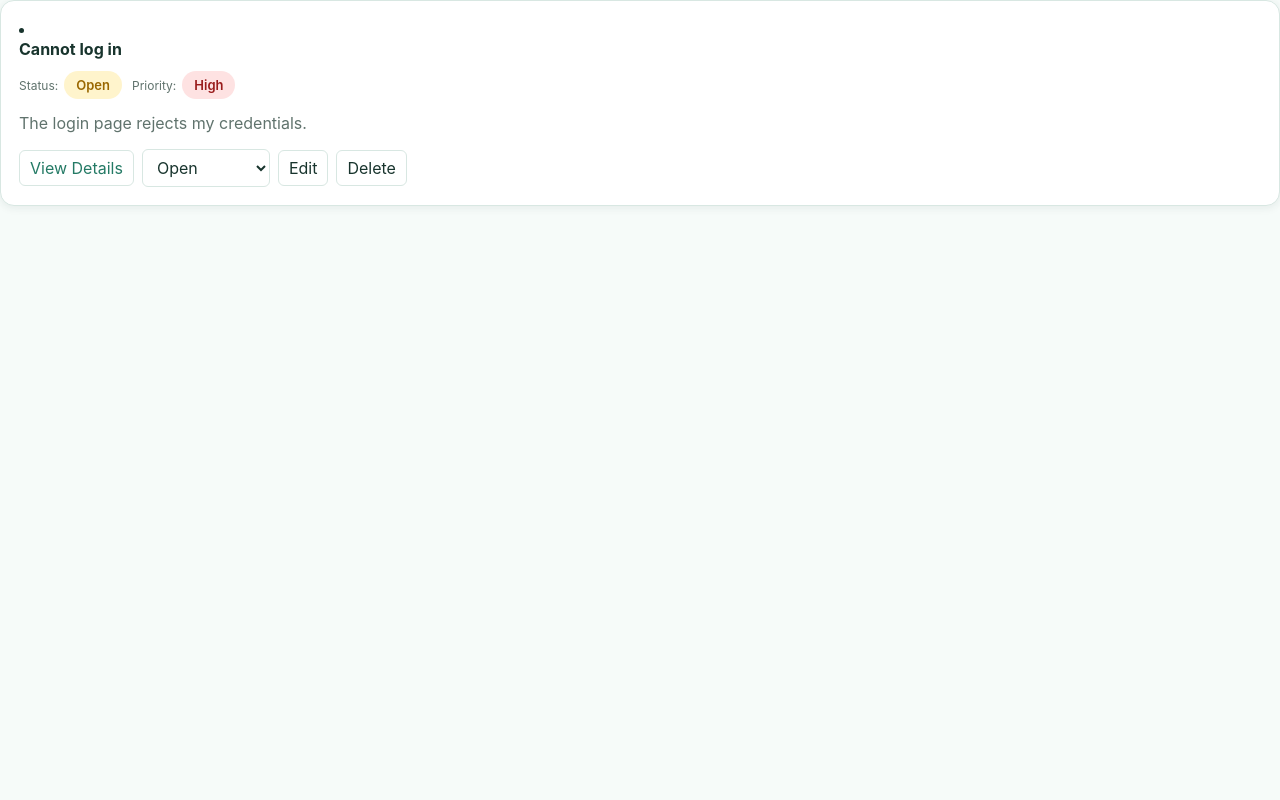
it: TicketCard › does not delete the ticket when deletion is cancelled
What coordinates should you click on to do the following:
click the button "Delete"
I would click on:
 (372, 168)
Its box is [336,150,407,186].
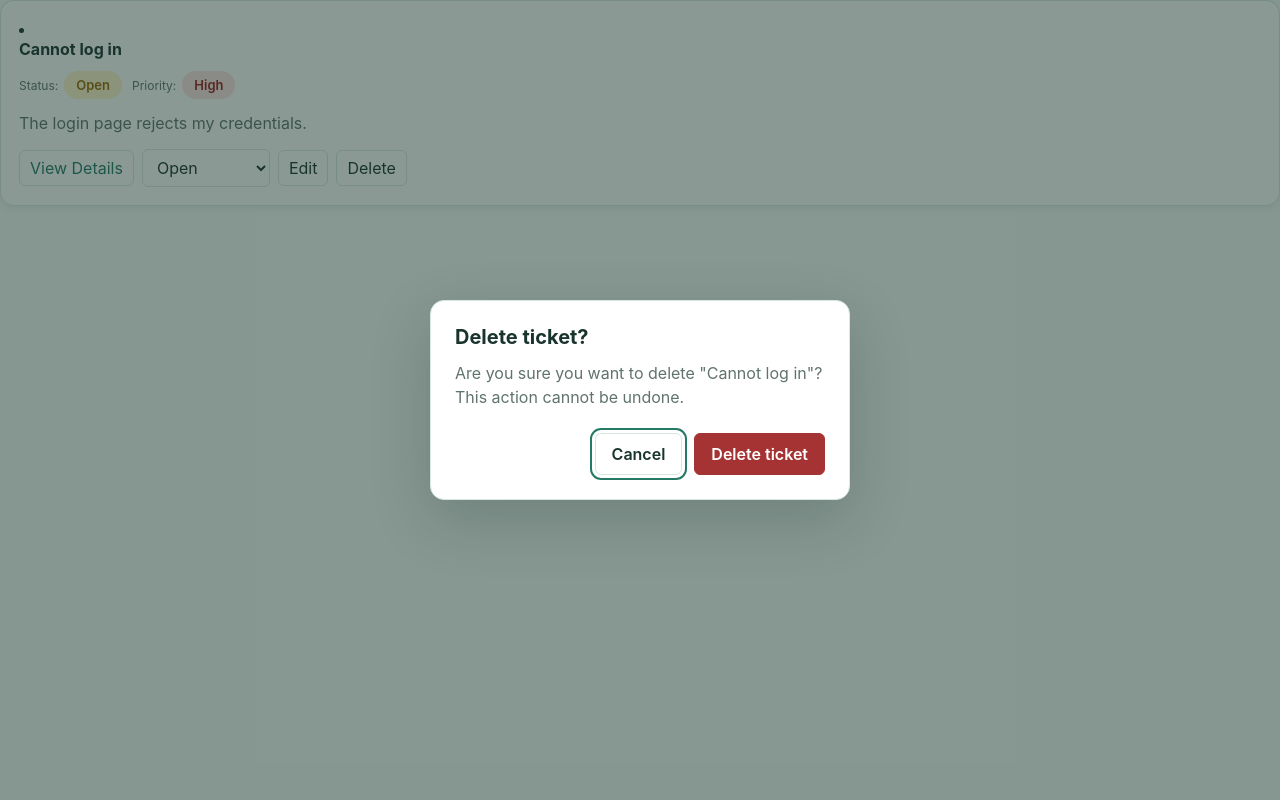
What coordinates should you click on to do the following:
click the button "Cancel"
I would click on:
 (638, 454)
Its box is [595,433,682,475].
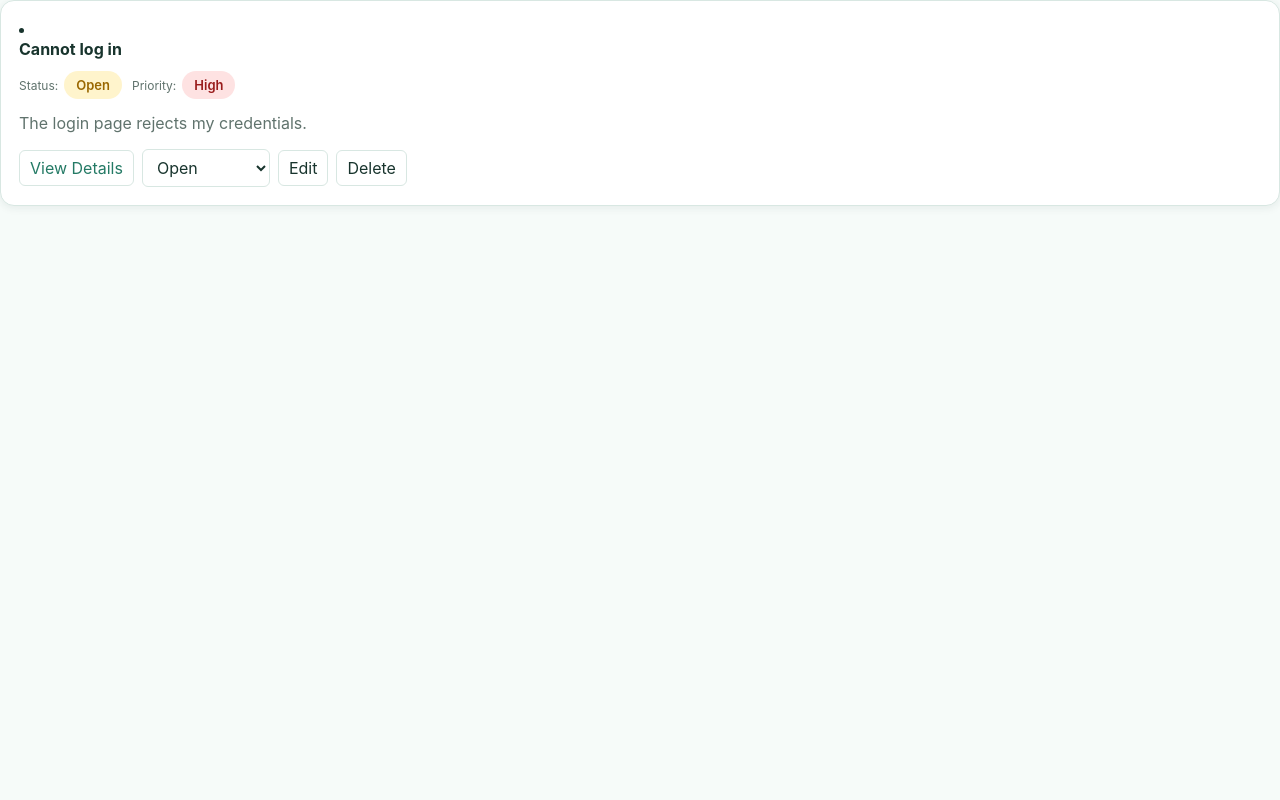
Expected: the heading "Delete ticket?" is gone
